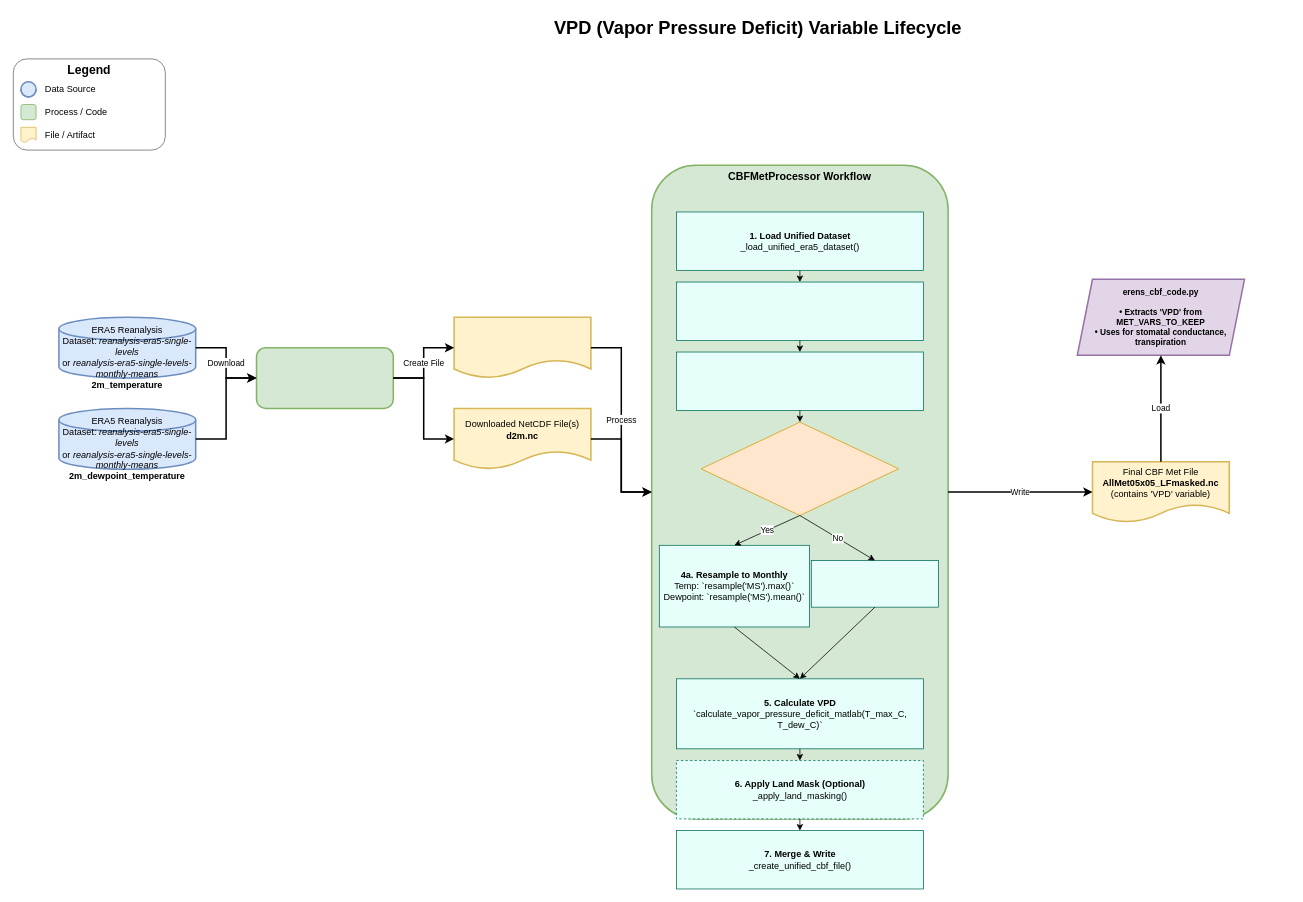
Image size: 1303x902. Some labels were removed from this diagram. The centre of each missing label's shape, as x and y in pixels:
"2. Calculate Derived Vars _calculate_derived_variables()" goes at point 799,310.
"3. Convert Units Temp & Dewpoint: K -> °C" goes at point 799,380.
"4b. Use As-Is (Monthly data)" goes at point 875,583.
"Downloaded NetCDF File(s) t2m.nc" goes at point 522,347.
"ecmwf_downloader.py" goes at point 324,378.
"Is data sub-monthly?" goes at point 799,468.
